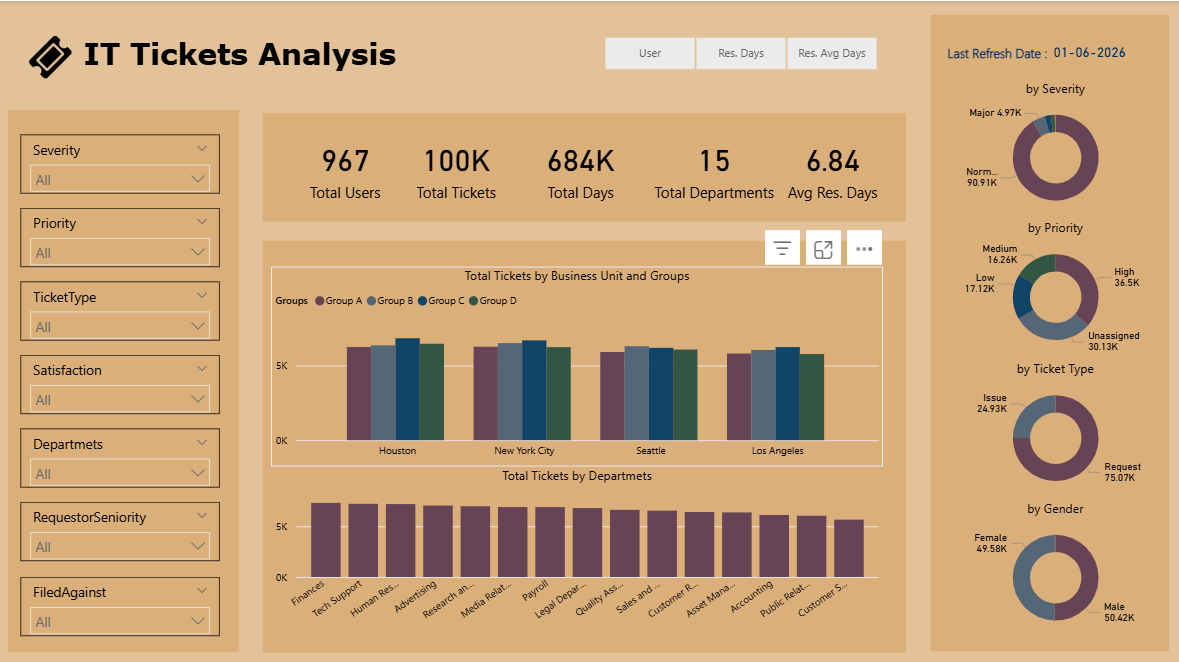

Layout of this report page (visuals, bound fields, positions):
{"tool":"powerbi","page":{"name":"Page 1","canvas":[1280,720],"ordinal":0},"visuals":[{"type":"basicShape","box":[8,112,256,600],"z":0},{"type":"textbox","box":[88,32,368,56],"z":1000},{"type":"basicShape","box":[280,120,712,120],"z":2000},{"type":"basicShape","box":[1008,8,264,704],"z":3000},{"type":"basicShape","box":[280,256,712,456],"z":4000},{"type":"donutChart","title":"by Severity","fields":{"Y":["All Measures.Measure logic"],"Category":["IT-Help-Desk.Severity"]},"box":[1042.3,84.3,208,152],"z":5000},{"type":"donutChart","title":"by Priority","fields":{"Y":["All Measures.Measure logic"],"Category":["IT-Help-Desk.Priority"]},"box":[1042.3,236.3,208,152],"z":6000},{"type":"donutChart","title":"by Ticket Type","fields":{"Y":["All Measures.Measure logic"],"Category":["IT-Help-Desk.TicketType"]},"box":[1042.3,388.3,208,152],"z":7000},{"type":"donutChart","title":"by Gender","fields":{"Y":["All Measures.Measure logic"],"Category":["IT-Help-Desk.Gender"]},"box":[1042.3,540.3,208,152],"z":8000},{"type":"clusteredColumnChart","fields":{"Category":["IT-Help-Desk.Business Unit"],"Series":["IT-Help-Desk.Groups"],"Y":["All Measures.Total Tickets"]},"box":[296,288,664,216],"z":9000},{"type":"lineClusteredColumnComboChart","fields":{"Y":["All Measures.Total Tickets"],"Category":["IT-Help-Desk.Departmets"]},"box":[296,504,664,176],"z":10000},{"type":"image","box":[24,32,64,56],"z":11000},{"type":"card","fields":{"Values":["All Measures.Total Users"]},"box":[304,136,144,88],"z":12000},{"type":"card","fields":{"Values":["All Measures.Total Days"]},"box":[560,136,144,88],"z":13000},{"type":"card","fields":{"Values":["All Measures.Avg Res. Days"]},"box":[832,136,144,88],"z":14000},{"type":"card","fields":{"Values":["All Measures.Total Departments"]},"box":[704,136,144,88],"z":15000},{"type":"card","fields":{"Values":["All Measures.Total Tickets"]},"box":[424,136,144,88],"z":16000},{"type":"card","fields":{"Values":["Min(Last Refresh Date.LastRefresh)"]},"box":[1136,32,96,48],"z":17000},{"type":"textbox","box":[1024,40,128,32],"z":18000},{"type":"slicer","fields":{"Values":["IT-Help-Desk.Severity"]},"box":[24,144,216,64],"z":19000},{"type":"slicer","fields":{"Values":["IT-Help-Desk.Priority"]},"box":[24,224,216,64],"z":20000},{"type":"slicer","fields":{"Values":["IT-Help-Desk.TicketType"]},"box":[24,304,216,64],"z":21000},{"type":"slicer","fields":{"Values":["IT-Help-Desk.Satisfaction"]},"box":[24,384,216,64],"z":22000},{"type":"slicer","fields":{"Values":["IT-Help-Desk.Departmets"]},"box":[24,464,216,64],"z":23000},{"type":"slicer","fields":{"Values":["IT-Help-Desk.RequestorSeniority"]},"box":[24,544,216,64],"z":24000},{"type":"slicer","fields":{"Values":["IT-Help-Desk.FiledAgainst"]},"box":[24,624,216,64],"z":25000},{"type":"slicer","fields":{"Values":["Measure selection.Measure"]},"box":[632,32,344,48],"z":26000}]}

Visuals, with their boxes in screenshot pixels (x1, y1, x2, y2), scaled from the page's 1280x720 canvas onto the 1179x662 screenshot:
basicShape: detection(7, 103, 243, 655)
textbox: detection(81, 29, 420, 81)
basicShape: detection(258, 110, 914, 221)
basicShape: detection(928, 7, 1172, 655)
basicShape: detection(258, 235, 914, 655)
"by Severity" donutChart: detection(960, 78, 1152, 217)
"by Priority" donutChart: detection(960, 217, 1152, 357)
"by Ticket Type" donutChart: detection(960, 357, 1152, 497)
"by Gender" donutChart: detection(960, 497, 1152, 637)
clusteredColumnChart - IT-Help-Desk.Business Unit x IT-Help-Desk.Groups: detection(273, 265, 884, 463)
lineClusteredColumnComboChart - All Measures.Total Tickets x IT-Help-Desk.Departmets: detection(273, 463, 884, 625)
image: detection(22, 29, 81, 81)
card - All Measures.Total Users: detection(280, 125, 413, 206)
card - All Measures.Total Days: detection(516, 125, 648, 206)
card - All Measures.Avg Res. Days: detection(766, 125, 899, 206)
card - All Measures.Total Departments: detection(648, 125, 781, 206)
card - All Measures.Total Tickets: detection(391, 125, 523, 206)
card - Min(Last Refresh Date.LastRefresh): detection(1046, 29, 1135, 74)
textbox: detection(943, 37, 1061, 66)
slicer - IT-Help-Desk.Severity: detection(22, 132, 221, 191)
slicer - IT-Help-Desk.Priority: detection(22, 206, 221, 265)
slicer - IT-Help-Desk.TicketType: detection(22, 280, 221, 338)
slicer - IT-Help-Desk.Satisfaction: detection(22, 353, 221, 412)
slicer - IT-Help-Desk.Departmets: detection(22, 427, 221, 485)
slicer - IT-Help-Desk.RequestorSeniority: detection(22, 500, 221, 559)
slicer - IT-Help-Desk.FiledAgainst: detection(22, 574, 221, 633)
slicer - Measure selection.Measure: detection(582, 29, 899, 74)
